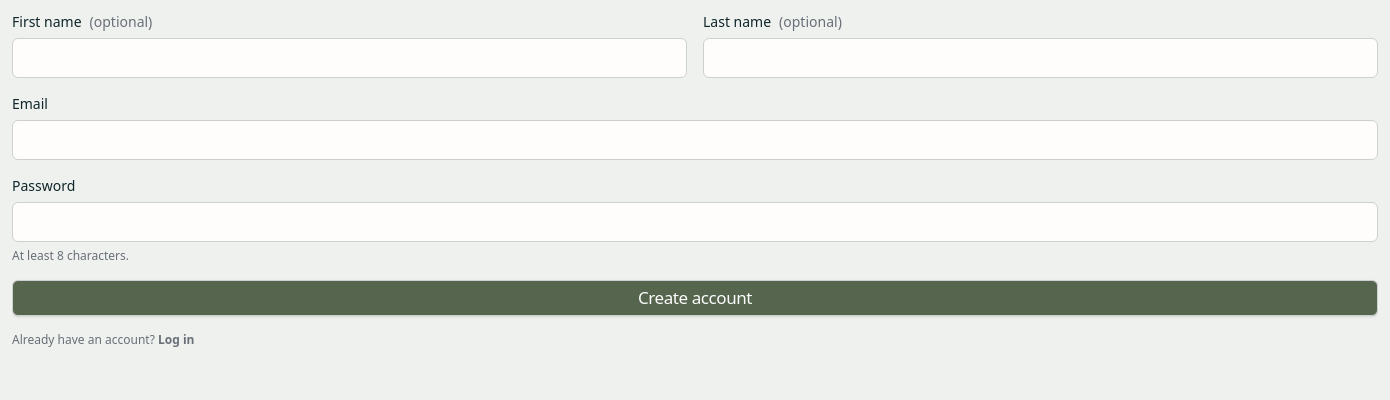
Test case: JoinForm › shows a connection error when the request throws
Type "jane@example.com" into the field labelled "Email".
click(695, 140); type("jane@example.com")  # box [12,120,1378,160]
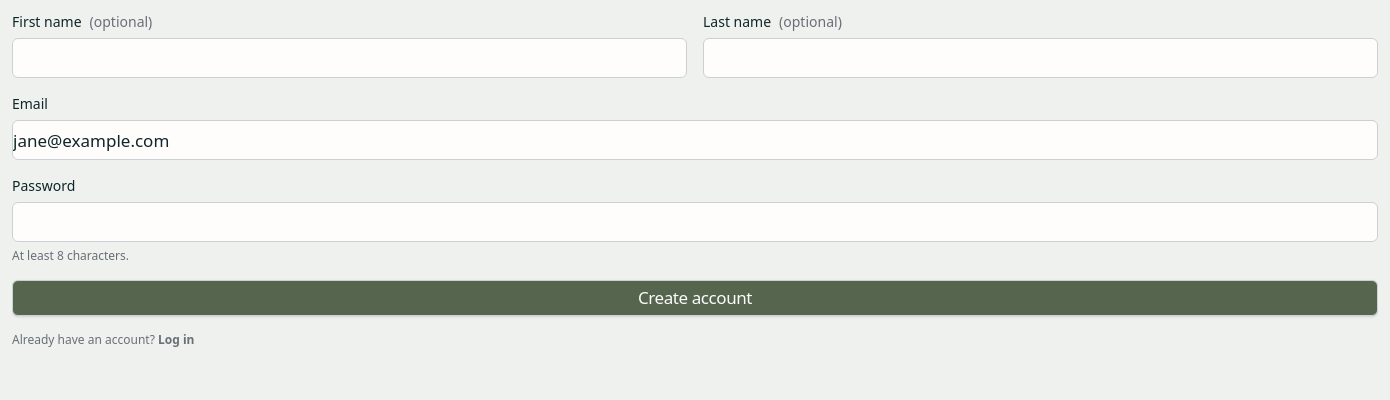
Type "somepassword1" into the password field labelled "Password".
click(695, 222); type("somepassword1")  # box [12,202,1378,242]
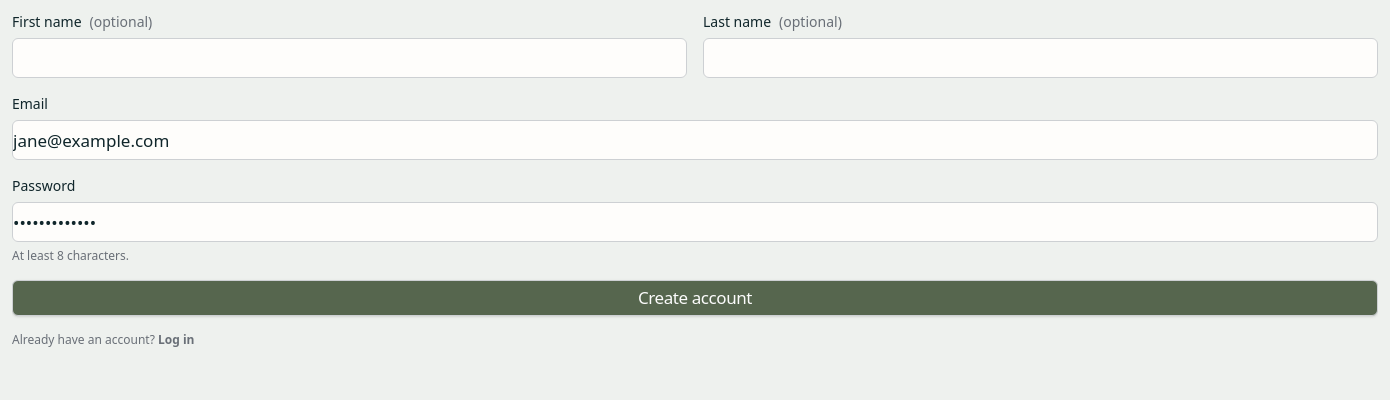
Click the button "Create account".
click(695, 298)  # box [12,280,1378,316]
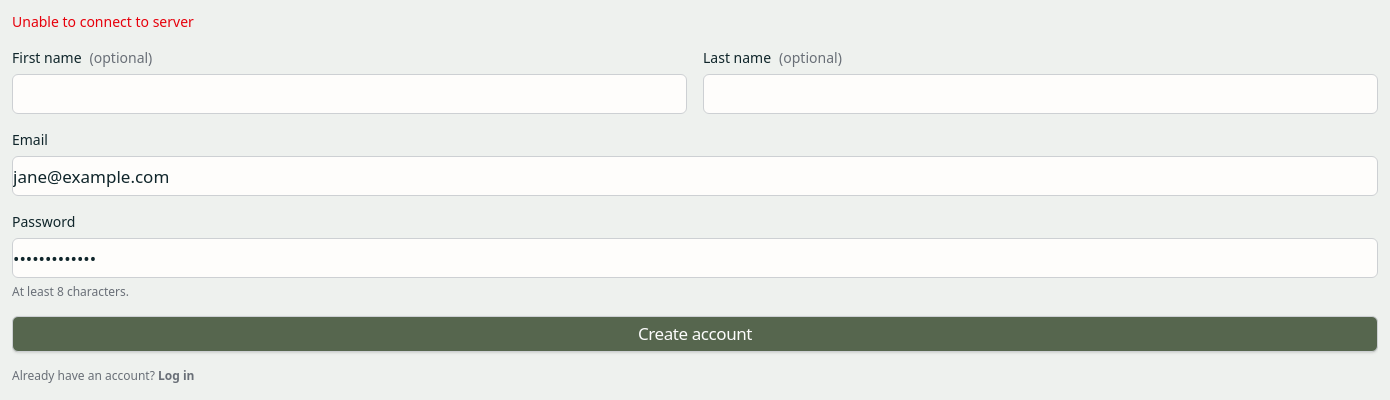
Check: the text "Unable to connect to server" is shown, box [12,12,194,31]
